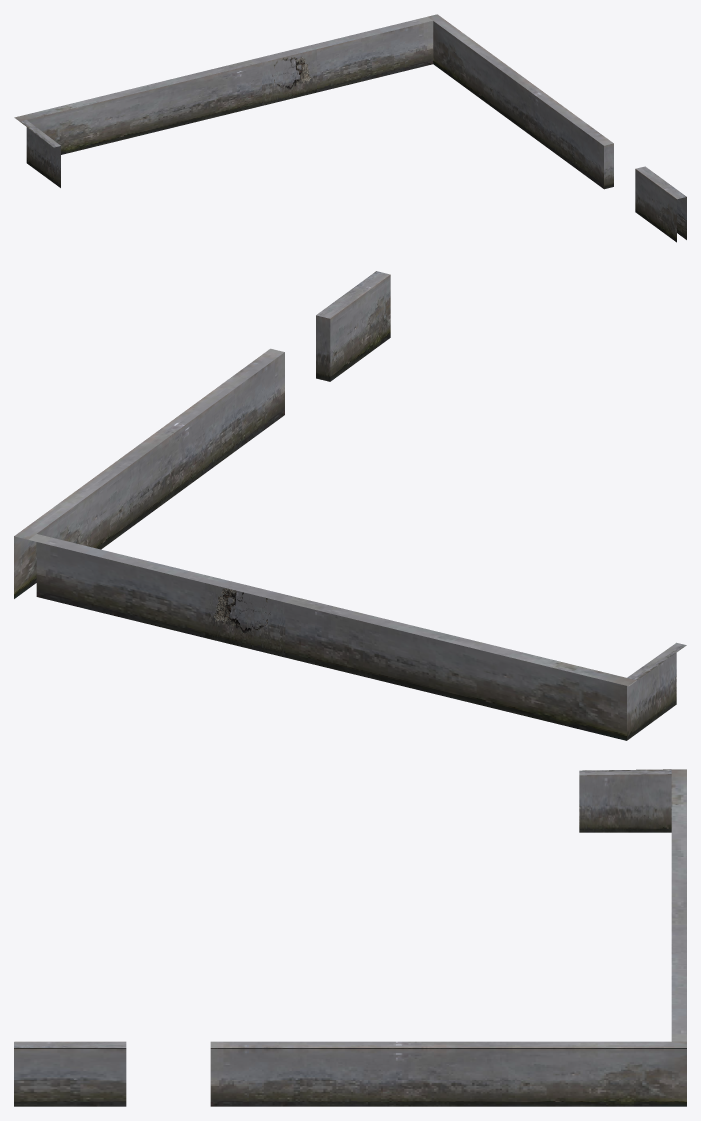
The model's file is BARDA.fbx.
The picture shows the model from 3 angles, top to bottom: view 1: azimuth 30°, elevation 25°; view 2: azimuth 150°, elevation 25°; view 3: azimuth 270°, elevation 25°; orthographic projection. The views are drawn at different scales.
Visible parts, largest first — view 1: BARDA.001, BARDA.007, BARDA.004, BARDA.012, BARDA.005, BARDA.002, BARDA.006, BARDA.010, BARDA.009; view 2: BARDA.001, BARDA.007, BARDA.004, BARDA.012, BARDA.005, BARDA.002, BARDA.008, BARDA.011, BARDA.010; view 3: BARDA.008, BARDA.009, BARDA.002, BARDA.004, BARDA.005, BARDA.010.
Part boxes in pixels (x1,y1,x2,y2): BARDA.001: [27, 21, 433, 154]; BARDA.007: [433, 21, 603, 188]; BARDA.004: [14, 16, 432, 121]; BARDA.012: [635, 169, 676, 242]; BARDA.005: [428, 14, 613, 145]; BARDA.002: [26, 127, 60, 187]; BARDA.006: [604, 143, 613, 189]; BARDA.010: [635, 166, 686, 199]; BARDA.009: [677, 197, 686, 239]; BARDA.001: [36, 542, 626, 740]; BARDA.007: [37, 352, 284, 549]; BARDA.004: [28, 534, 636, 686]; BARDA.012: [330, 275, 390, 381]; BARDA.005: [14, 348, 284, 539]; BARDA.002: [627, 653, 676, 740]; BARDA.008: [14, 536, 36, 598]; BARDA.011: [316, 315, 330, 381]; BARDA.010: [316, 271, 390, 318]; BARDA.008: [210, 1048, 686, 1106]; BARDA.009: [14, 1048, 126, 1106]; BARDA.002: [579, 774, 671, 832]; BARDA.004: [671, 769, 686, 1041]; BARDA.005: [210, 1041, 686, 1047]; BARDA.010: [14, 1041, 126, 1047].
Size of the model in its own units: 4093 by 401 by 4177.
Materials: 2 (2 with a texture image).
